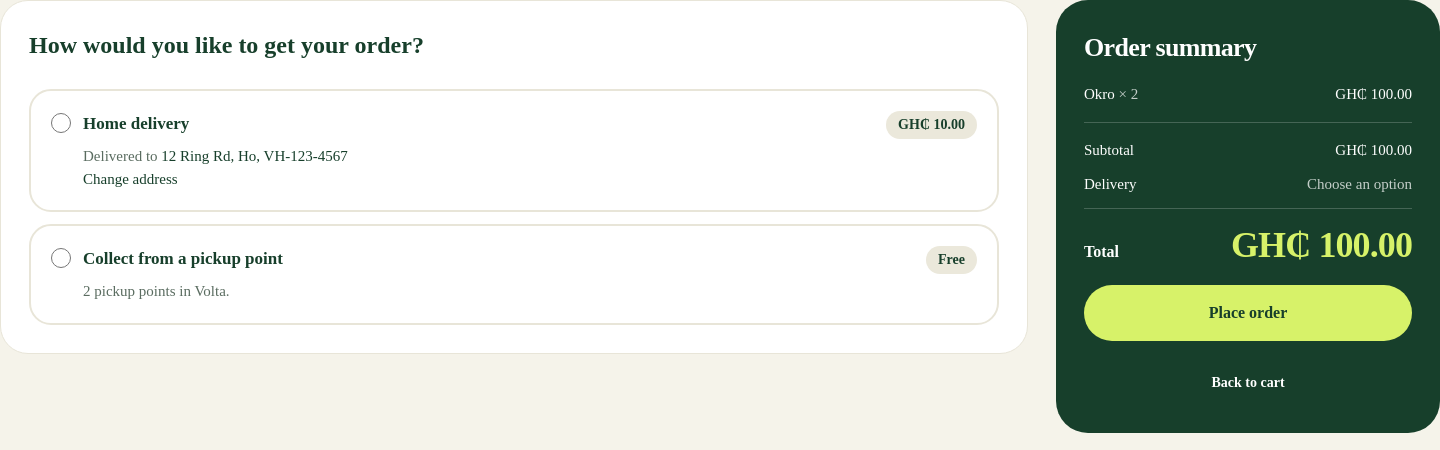
Test case: CheckoutView › home delivery uses the profile address and adds the delivery fee
expect the text "GH₵ 10.00" is shown: met, box [886, 111, 977, 139]
Click the radio button labelled "Home delivery GH₵ 10.00": (61, 123) [51, 113, 71, 133]
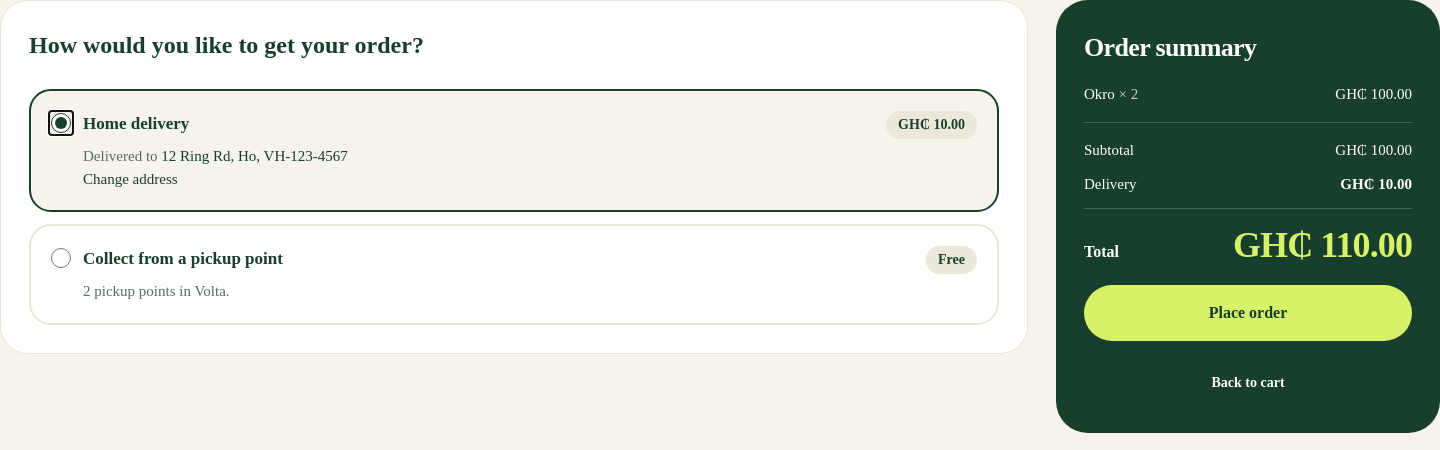
expect the text "12 Ring Rd, Ho, VH-123-4567" is shown: met, box [161, 148, 348, 164]
expect the text "GH₵ 10.00" below "Subtotal" is shown: met, box [1340, 176, 1412, 192]
expect the text "GH₵ 110.00" is shown: met, box [1233, 224, 1412, 264]
